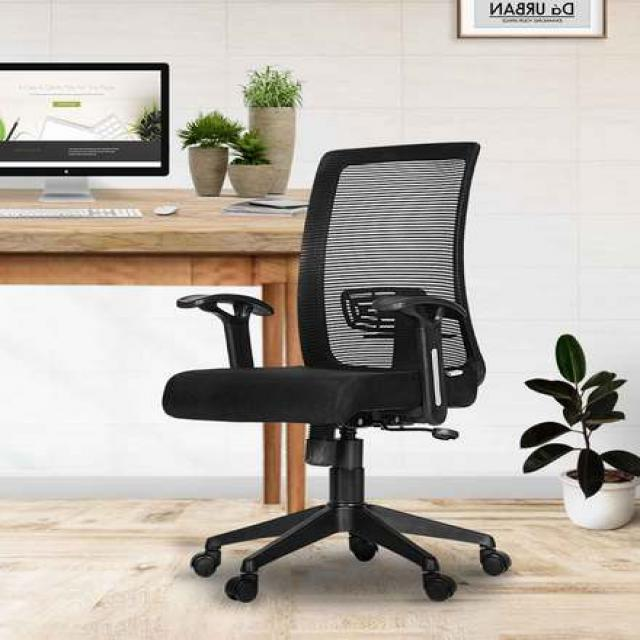chair: (137, 129, 529, 627)
table: (0, 183, 335, 530)
